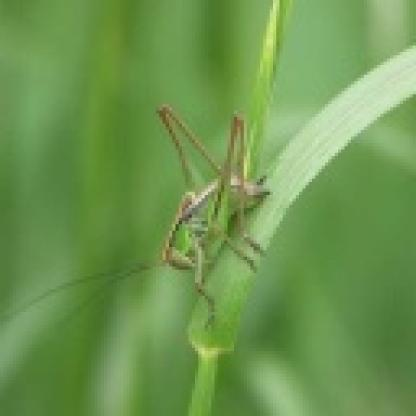grasshopper: (146, 88, 276, 298)
